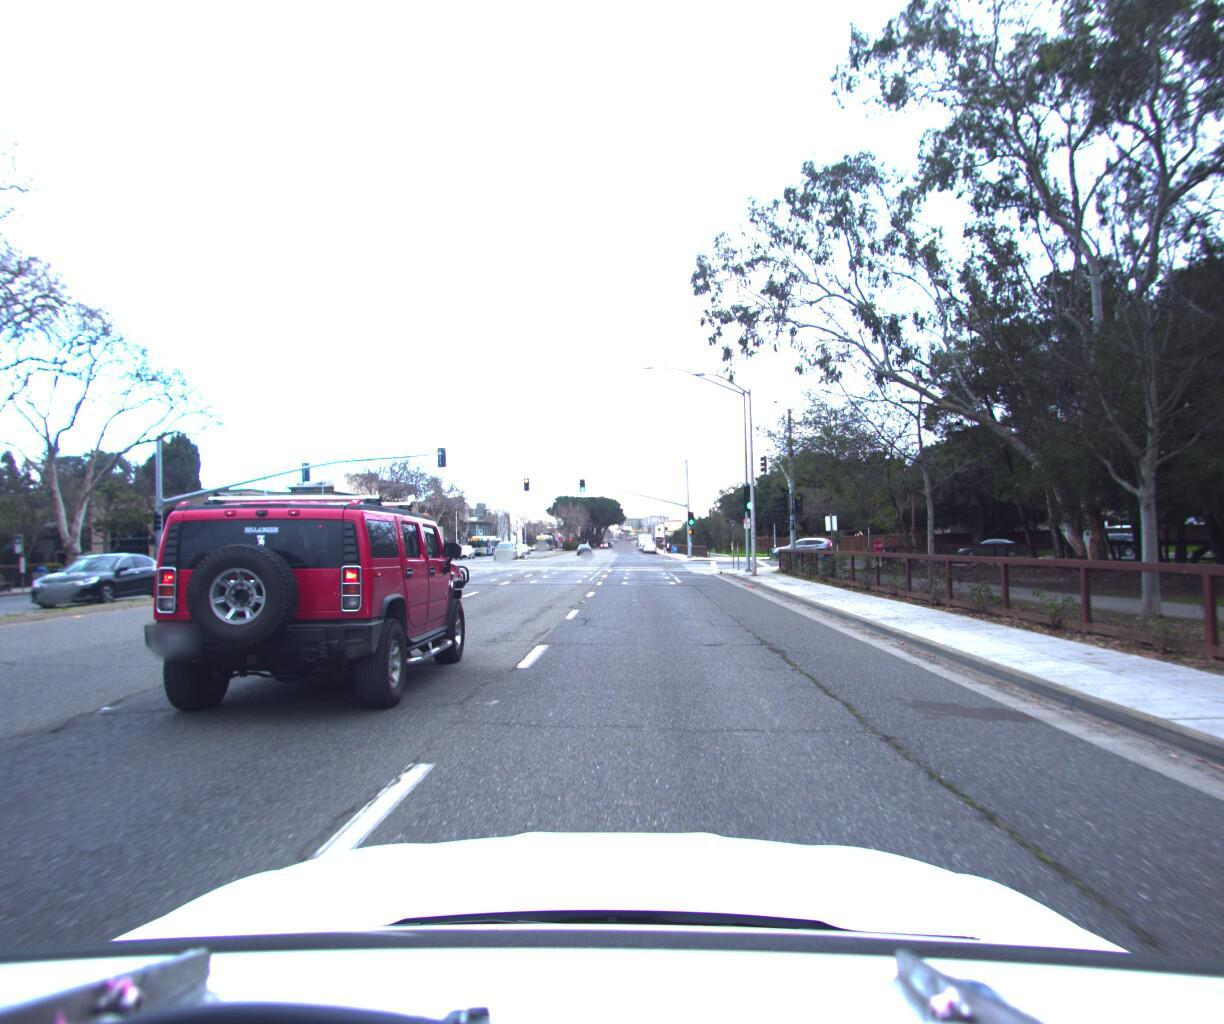car: (117, 486, 479, 736), (16, 545, 184, 606), (768, 529, 835, 552), (490, 534, 518, 553)
